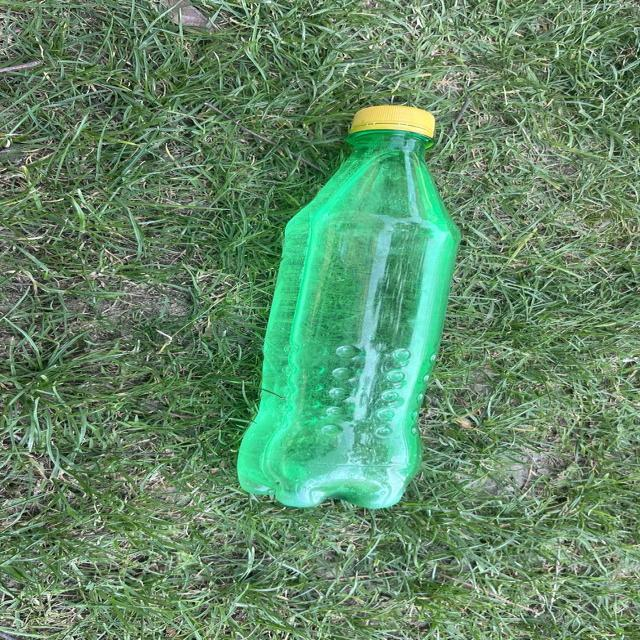medium: (238, 106, 458, 508)
